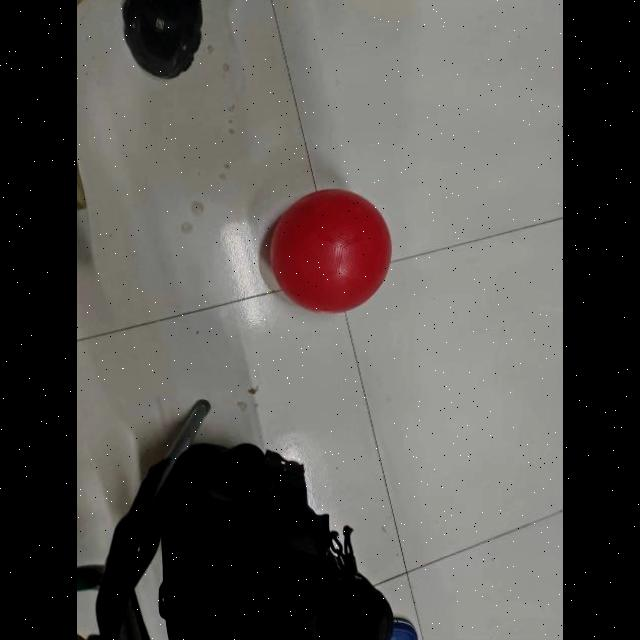R: (269, 186, 391, 314)
